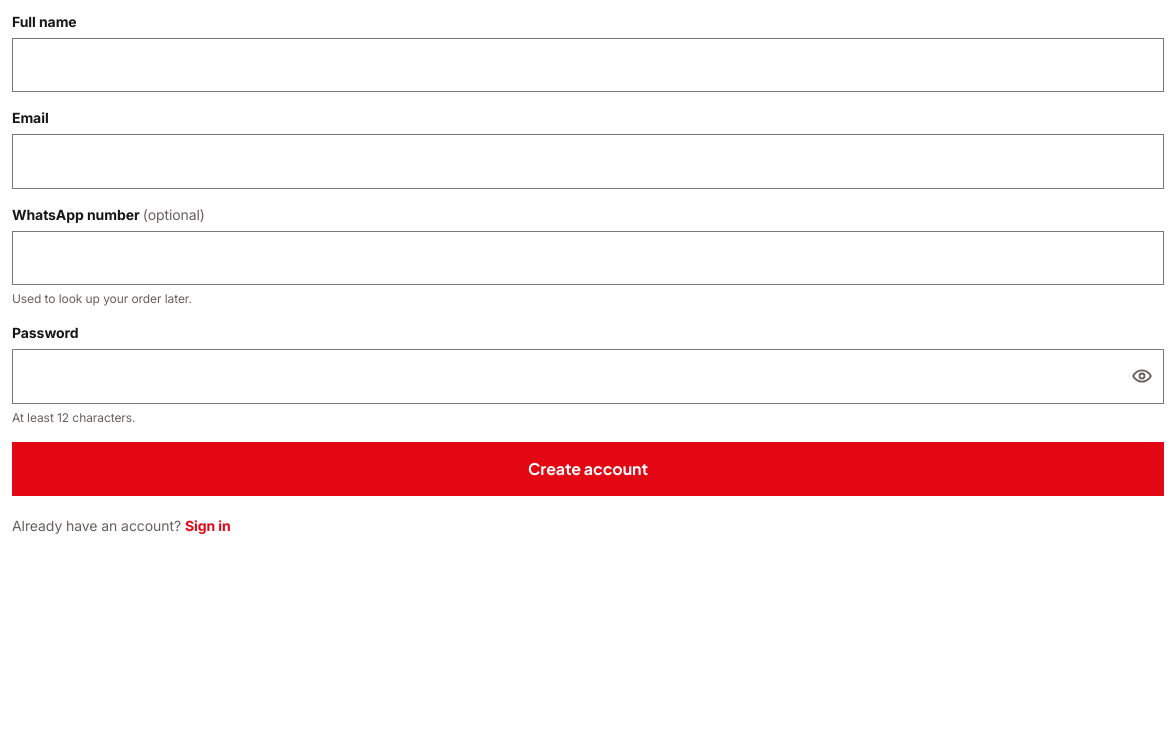
Test: a rejected registration › keeps the name, email and phone, and only clears the password
The width and height of the screenshot is (1176, 732).
Type "Ada Test" into the field labelled "Full name" at (588, 65), box [12, 38, 1164, 92]
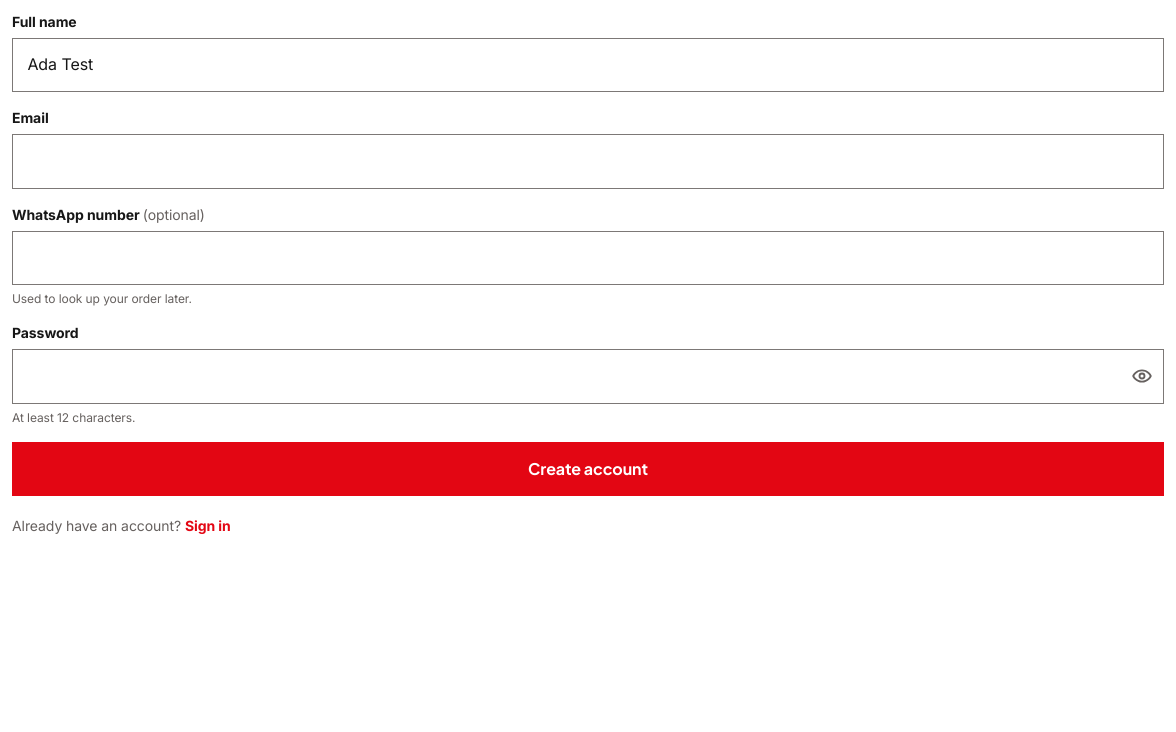
Type "ada@test.invalid" into the field labelled "Email" at (588, 162), box [12, 134, 1164, 189]
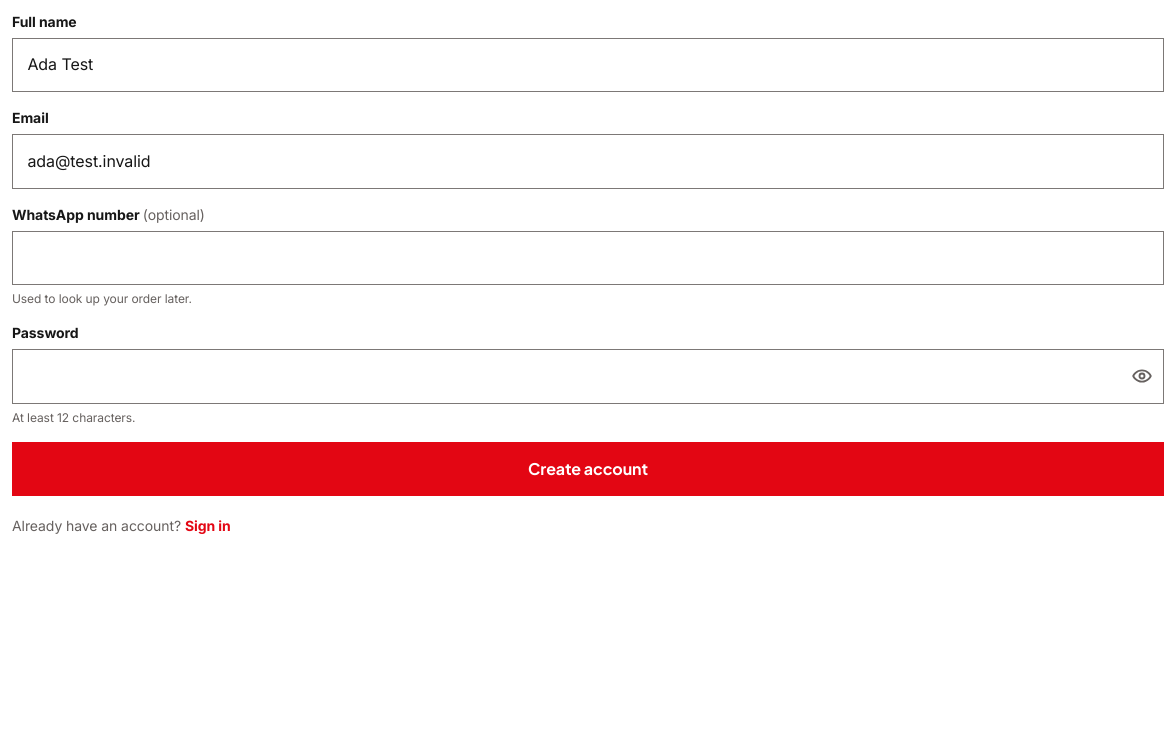
Type "08012345678" into the field labelled "WhatsApp number (optional) Used to look up your order later." at (588, 258), box [12, 231, 1164, 285]
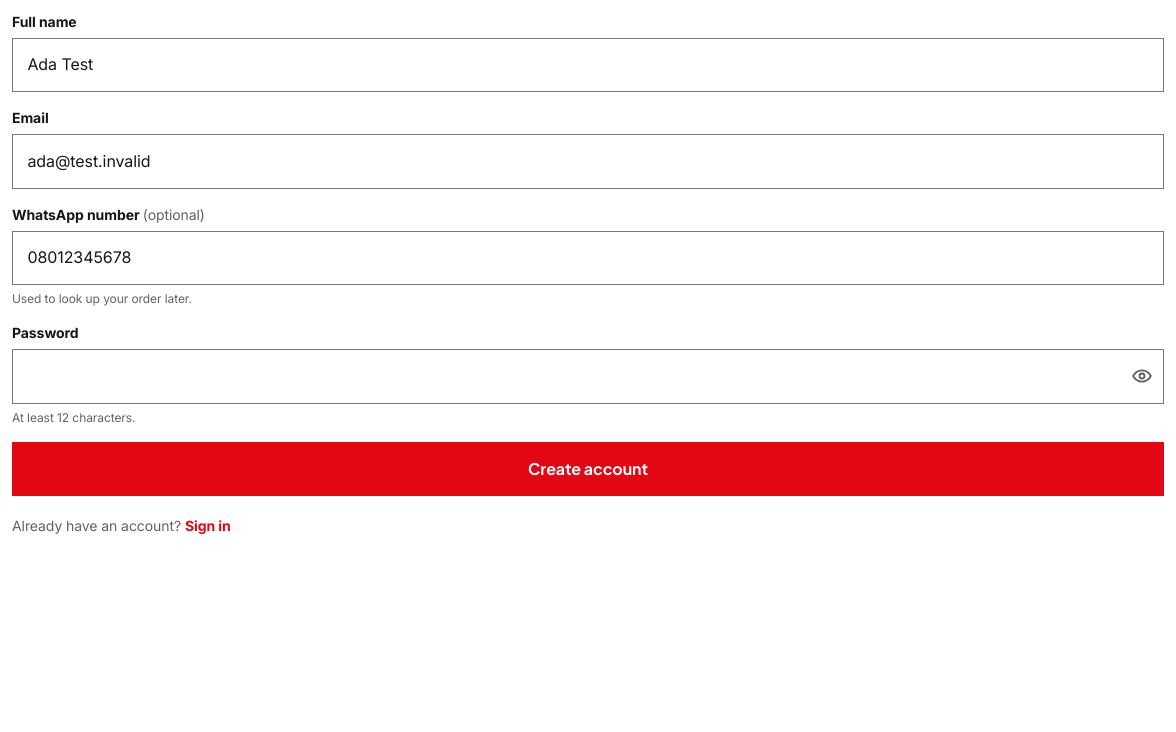
Type "short" into the password field labelled "Password" at (588, 376), box [12, 349, 1164, 404]
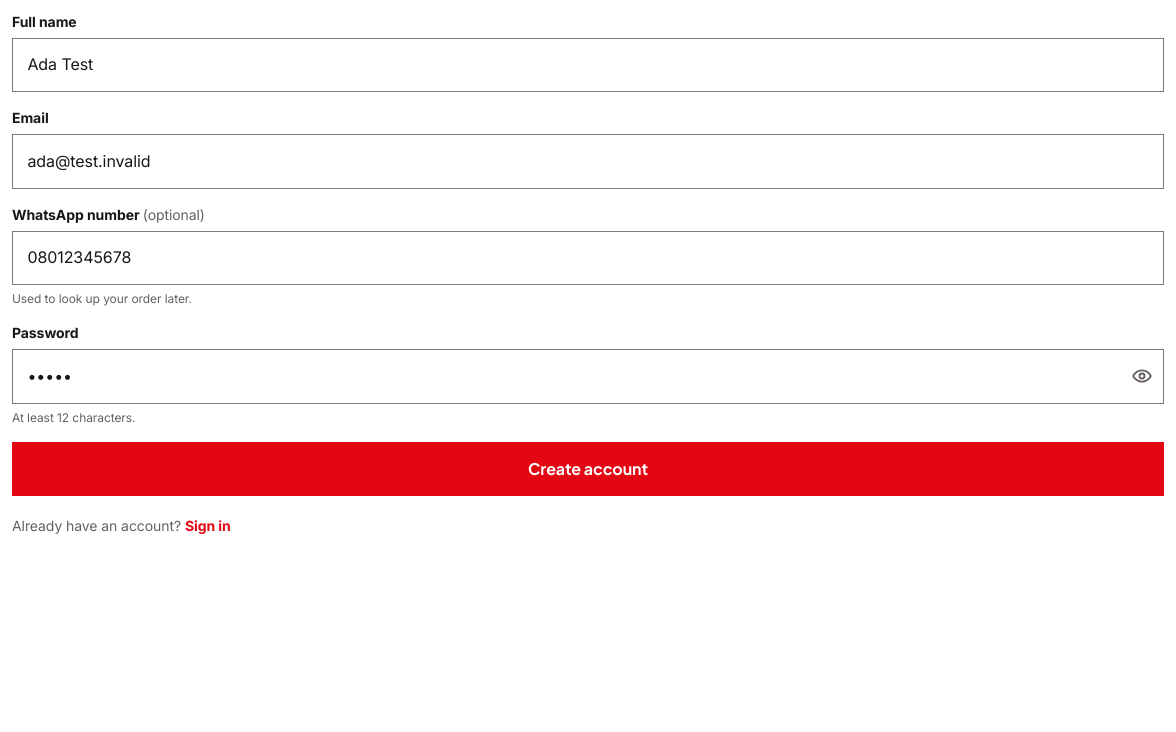
Submit the form
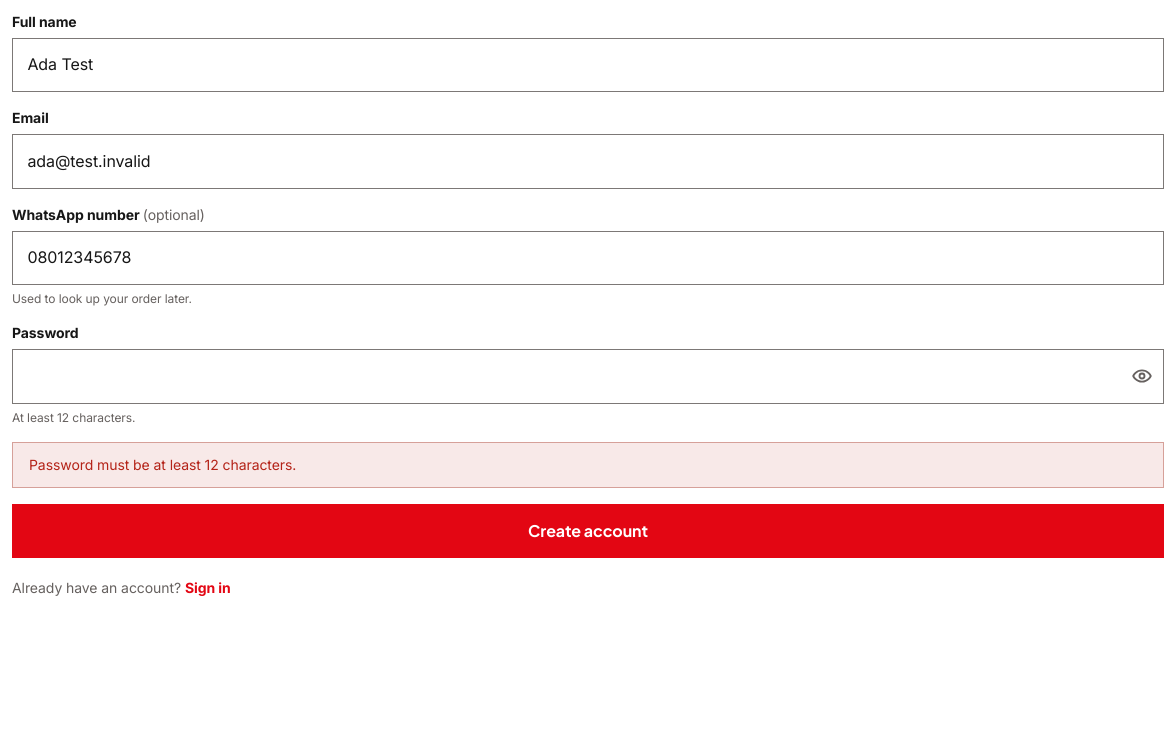
Expected: the message "Password must be at least 12 characters." is shown, [12, 442, 1164, 488]
